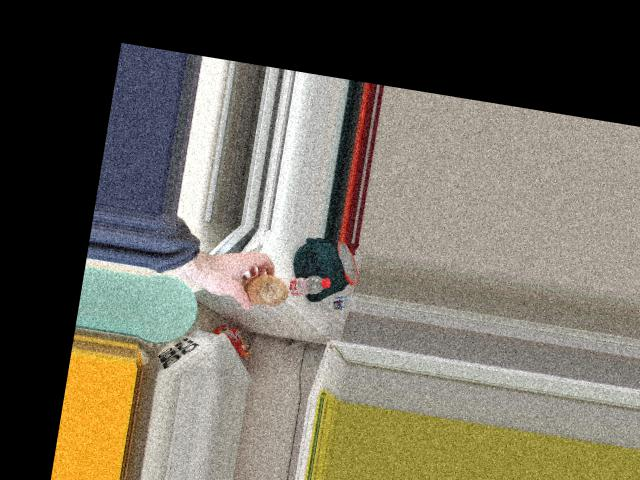sweet_potato: (232, 262, 290, 312)
